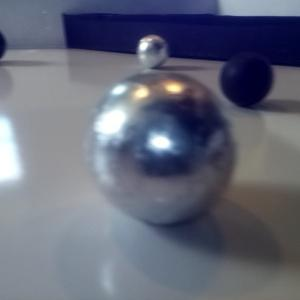zone: (62, 16, 300, 68)
